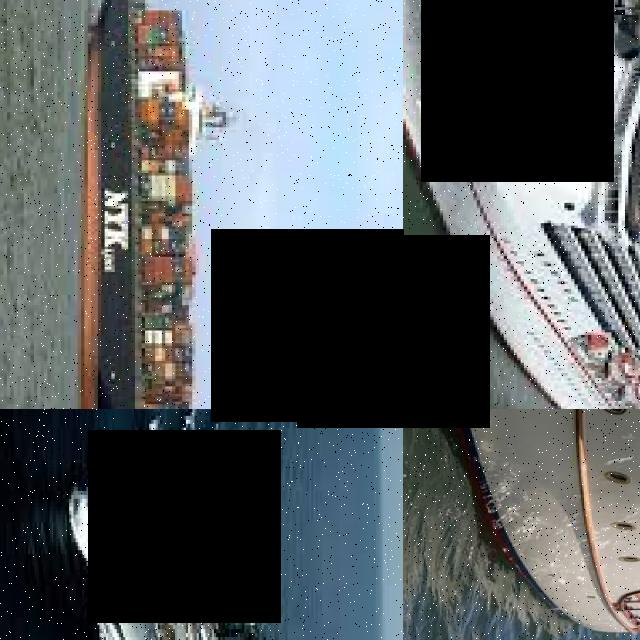boat: (410, 410, 640, 626)
cargo ship: (67, 1, 253, 410)
cruise ship: (404, 1, 640, 410)
warship: (53, 430, 404, 640)
